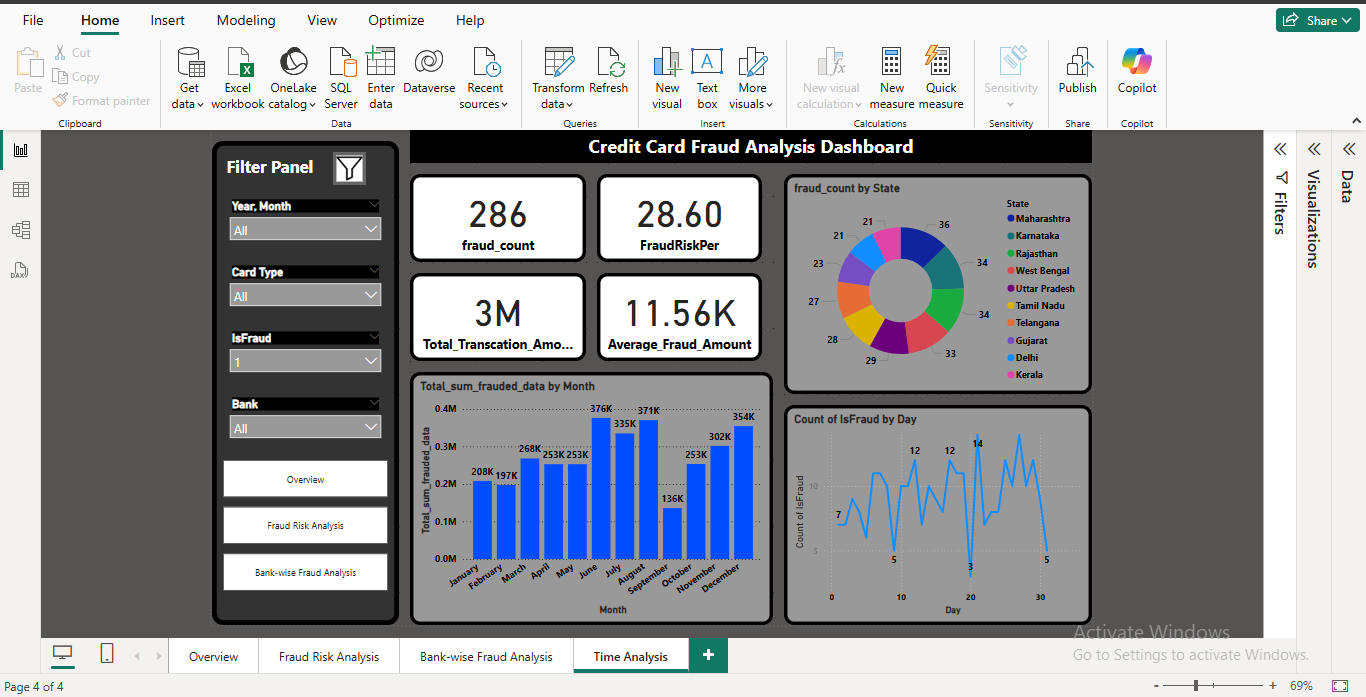

The dashboard page shown, as its layout file describes it:
{"tool":"powerbi","page":{"name":"Time Analysis","canvas":[1280,720],"ordinal":3},"visuals":[{"type":"shape","box":[0,16,272,704],"z":0},{"type":"textbox","box":[288,0,992,48],"z":1000},{"type":"textbox","box":[16,32,208,48],"z":2000},{"type":"image","box":[176,32,48,48],"z":3000},{"type":"pageNavigator","box":[16,480,240,192],"z":4000},{"type":"slicer","fields":{"Values":["Credit Card Fraud Risk Analysis.Card Type"]},"box":[16,192,240,80],"z":5000},{"type":"slicer","fields":{"Values":["Calender.Date.Variation.Date Hierarchy.Year","Calender.Date.Variation.Date Hierarchy.Month"]},"box":[16,96,240,80],"z":6000},{"type":"slicer","fields":{"Values":["Credit Card Fraud Risk Analysis.IsFraud"]},"box":[16,288,240,80],"z":7000},{"type":"slicer","fields":{"Values":["Credit Card Fraud Risk Analysis.Bank"]},"box":[16,384,240,80],"z":8000},{"type":"columnChart","fields":{"Category":["Calender.Date.Variation.Date Hierarchy.Year","Calender.Date.Variation.Date Hierarchy.Month"],"Y":["Credit Card Fraud Risk Analysis.Total_sum_frauded_data"]},"box":[288,352,528,368],"z":9000},{"type":"card","fields":{"Values":["Credit Card Fraud Risk Analysis.fraud_count"]},"box":[288,64,256,128],"z":10002},{"type":"lineChart","fields":{"Category":["Calender.Date.Variation.Date Hierarchy.Year","Calender.Date.Variation.Date Hierarchy.Month","Calender.Date.Variation.Date Hierarchy.Day"],"Y":["CountNonNull(Credit Card Fraud Risk Analysis.IsFraud)"]},"box":[832,400,448,320],"z":10003},{"type":"donutChart","fields":{"Category":["Credit Card Fraud Risk Analysis.State"],"Y":["Credit Card Fraud Risk Analysis.fraud_count"]},"box":[832,64,448,320],"z":10004},{"type":"card","fields":{"Values":["Credit Card Fraud Risk Analysis.FraudRiskPer"]},"box":[560,64,240,128],"z":10005},{"type":"card","fields":{"Values":["Credit Card Fraud Risk Analysis.Total_Transcation_Amount"]},"box":[288,208,256,128],"z":10006},{"type":"card","fields":{"Values":["Credit Card Fraud Risk Analysis.Average_Fraud_Amount"]},"box":[560,208,240,128],"z":10007}]}

Visuals, with their boxes on the page's 1280x720 design canvas (x1, y1, x2, y2). These are canvas units, not pixel positions in the 1366x697 screenshot, which may show the page scaled, cropped or inside an application window:
shape: 0/16/272/720
textbox: 288/0/1280/48
textbox: 16/32/224/80
image: 176/32/224/80
pageNavigator: 16/480/256/672
slicer - Credit Card Fraud Risk Analysis.Card Type: 16/192/256/272
slicer - Calender.Date.Variation.Date Hierarchy.Year x Calender.Date.Variation.Date Hierarchy.Month: 16/96/256/176
slicer - Credit Card Fraud Risk Analysis.IsFraud: 16/288/256/368
slicer - Credit Card Fraud Risk Analysis.Bank: 16/384/256/464
columnChart - Calender.Date.Variation.Date Hierarchy.Year x Calender.Date.Variation.Date Hierarchy.Month: 288/352/816/720
card - Credit Card Fraud Risk Analysis.fraud_count: 288/64/544/192
lineChart - Calender.Date.Variation.Date Hierarchy.Year x Calender.Date.Variation.Date Hierarchy.Month: 832/400/1280/720
donutChart - Credit Card Fraud Risk Analysis.State x Credit Card Fraud Risk Analysis.fraud_count: 832/64/1280/384
card - Credit Card Fraud Risk Analysis.FraudRiskPer: 560/64/800/192
card - Credit Card Fraud Risk Analysis.Total_Transcation_Amount: 288/208/544/336
card - Credit Card Fraud Risk Analysis.Average_Fraud_Amount: 560/208/800/336
